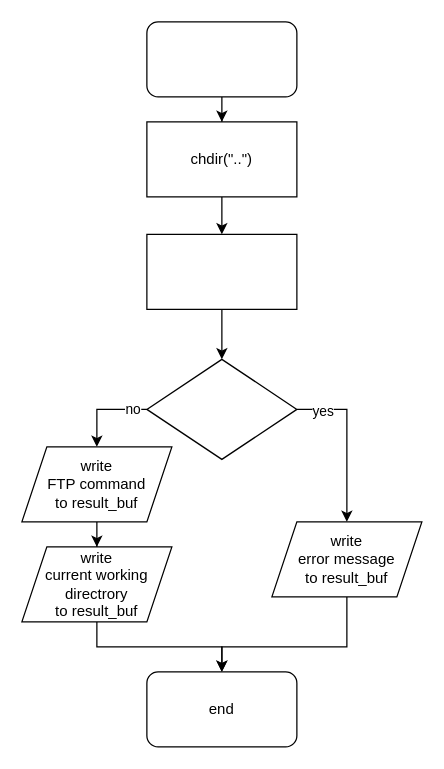
The diagram is 444 pixels wide and 769 high, and some of its shapes have lost their labels. The shapes that lost their labels are listed below. From the top down, each one's centre as x and y in pixels, then its label:
At (x=221, y=59): "start".
At (x=221, y=271): "getcwd (wd, MAX_BUFF)".
At (x=221, y=408): "fail?".
